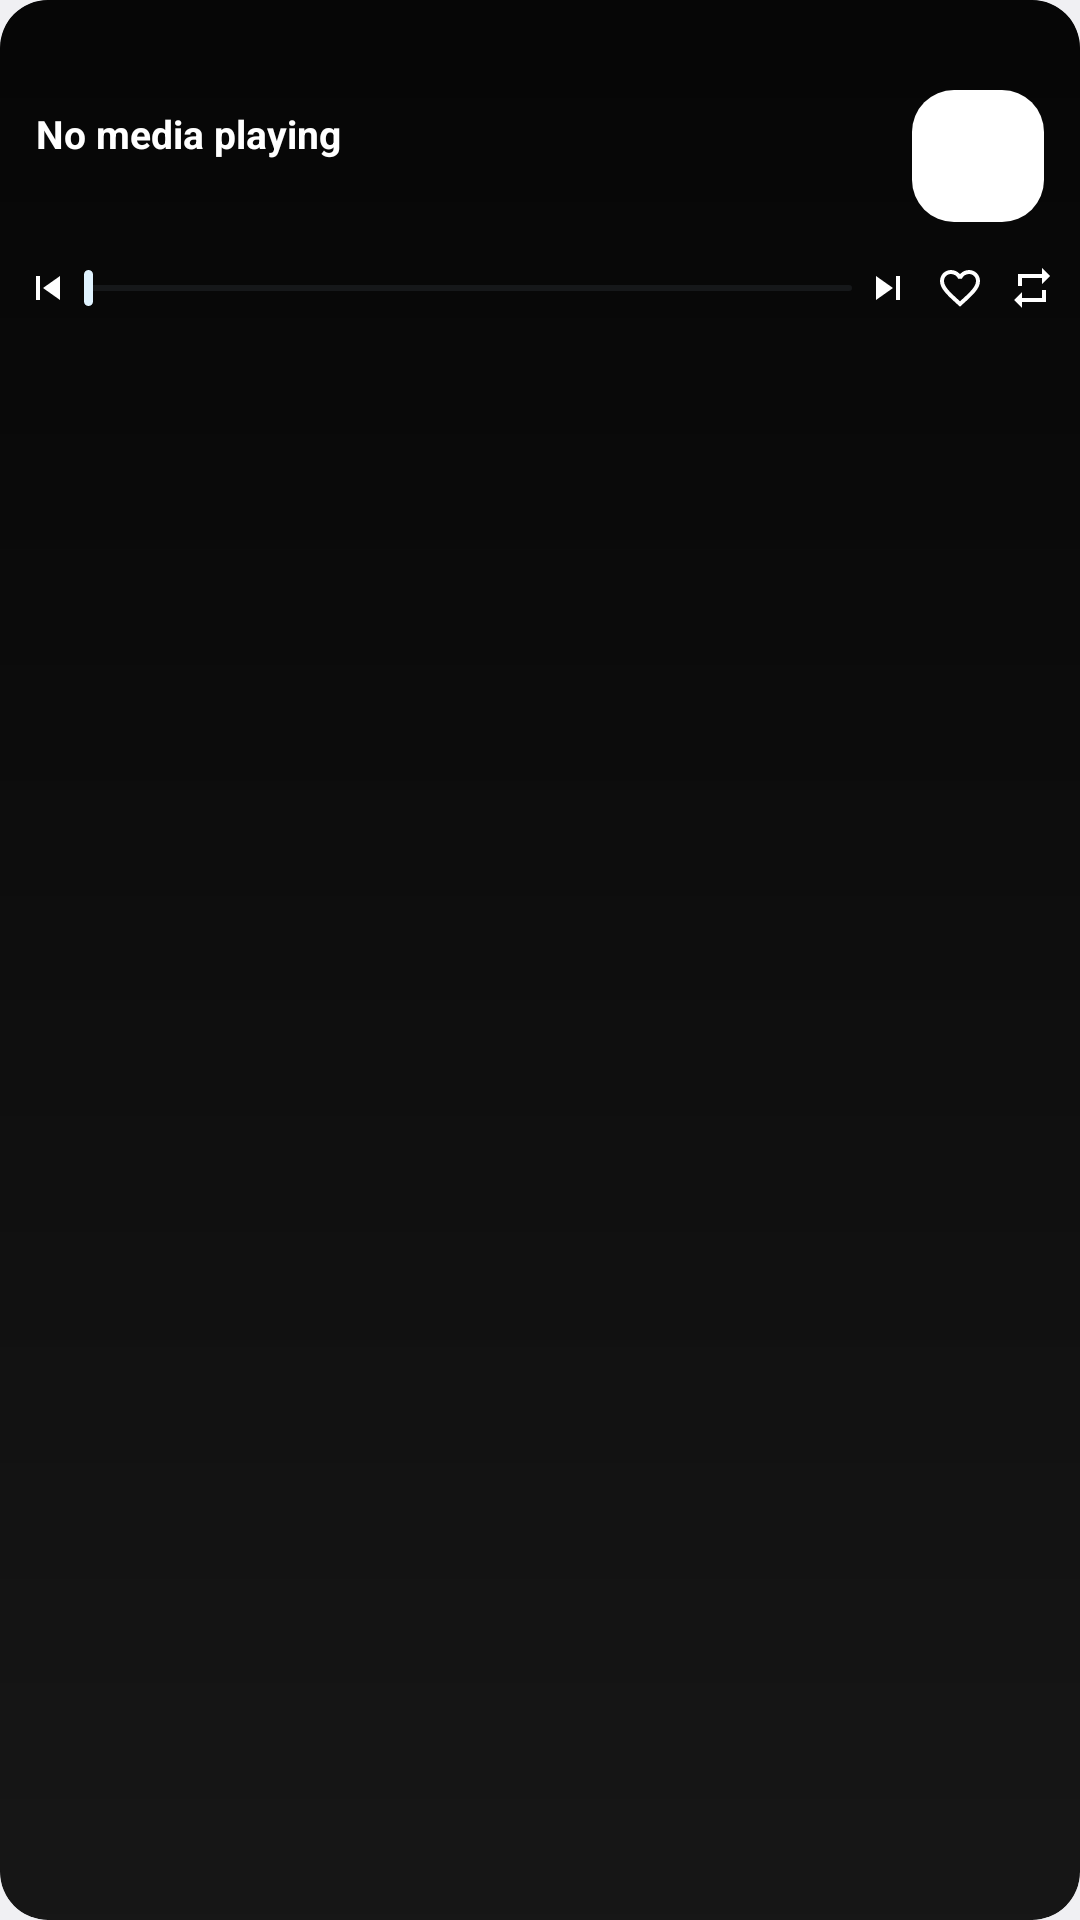

Icon click points for this 1080px×1920px phone screenshot, format (x=x, y=y):
like border: (x=960, y=288)
next: (x=888, y=288)
prev: (x=48, y=288)
repeat: (x=1032, y=288)
